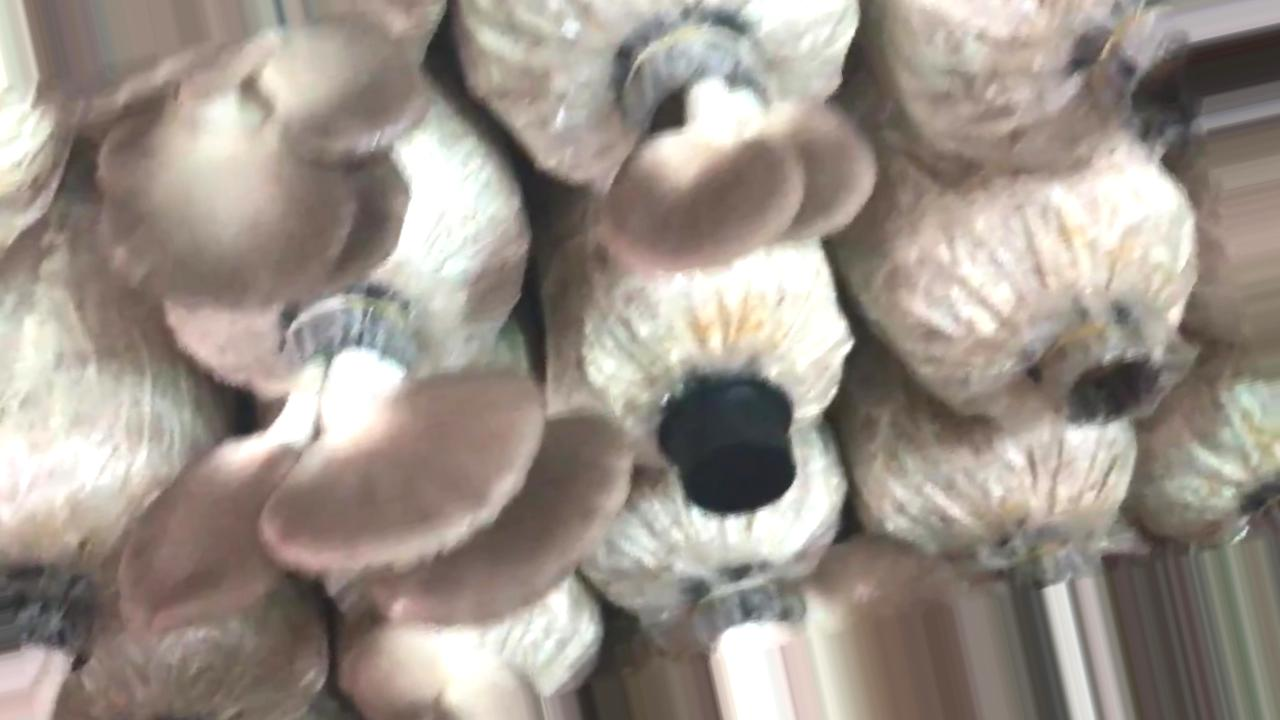nam: (109, 281, 628, 627), (3, 1, 428, 312), (606, 20, 873, 267)
